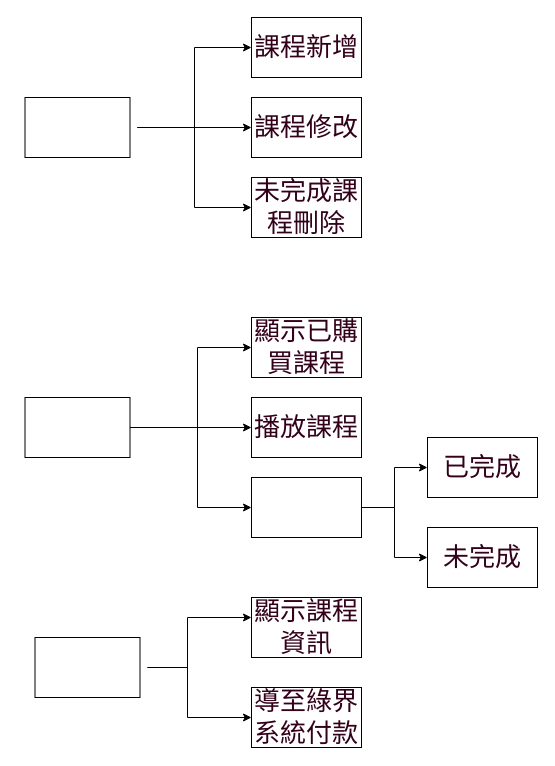
The diagram is 555 pixels wide and 766 high, and some of its shapes have lost their labels. Each missing label, with the centre of its shape:
"學生頁面" belongs at pixel 77 427.
"教師頁面" belongs at pixel 77 127.
"管理課程" belongs at pixel 306 507.
"購買頁面" belongs at pixel 87 667.
